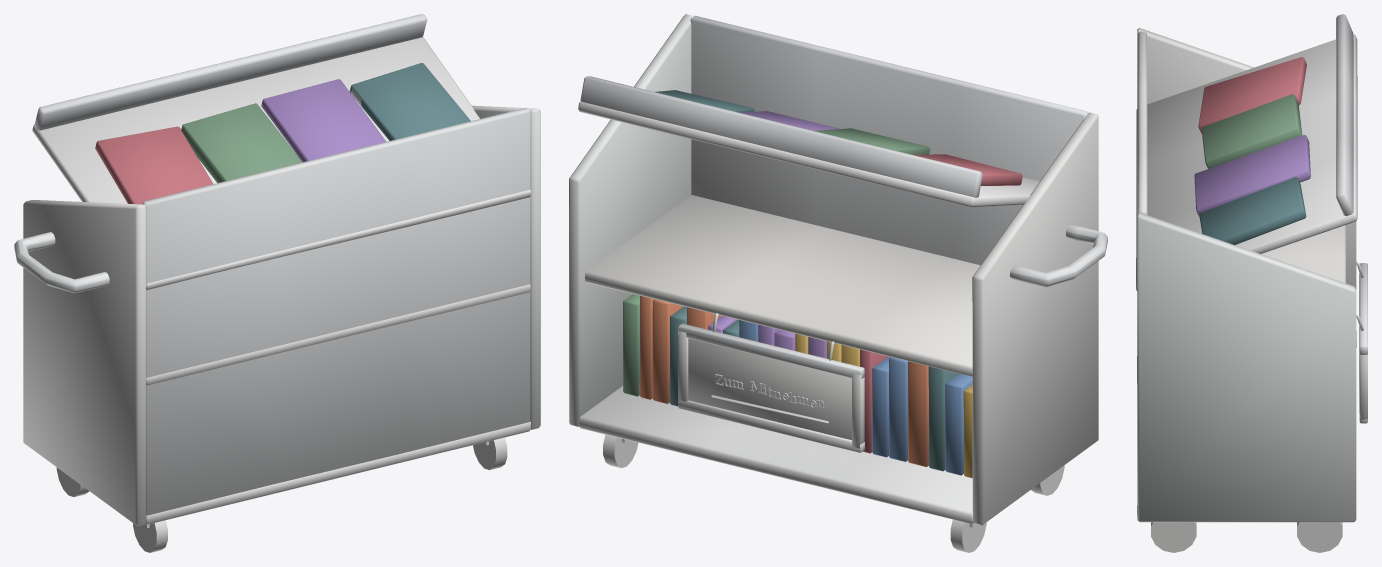
The model's file is deco_walk_books.glb.
3 views of the same model, side by side, from view 1: azimuth 30°, elevation 25°; view 2: azimuth 150°, elevation 25°; view 3: azimuth 270°, elevation 25° (orthographic). The views are drawn at different scales.
Visible parts, largest first — view 1: Lack Salbei Bücherwagen, Bücher bunt, Schmiedeeisen; view 2: Lack Salbei Bücherwagen, Bücher bunt, Tafel, Schmiedeeisen, Kreide; view 3: Lack Salbei Bücherwagen, Bücher bunt, Schmiedeeisen.
Boxes of the visible parts, <box> form: Lack Salbei Bücherwagen: <box>14,14,540,525</box>; Bücher bunt: <box>95,63,470,204</box>; Schmiedeeisen: <box>56,437,507,552</box>; Lack Salbei Bücherwagen: <box>569,14,1107,525</box>; Bücher bunt: <box>623,90,1022,478</box>; Tafel: <box>688,338,851,440</box>; Schmiedeeisen: <box>603,434,1064,552</box>; Kreide: <box>711,374,828,423</box>; Lack Salbei Bücherwagen: <box>1136,14,1367,522</box>; Bücher bunt: <box>1194,57,1310,244</box>; Schmiedeeisen: <box>1151,522,1342,552</box>.
Bounding box in the file's own units: 0.9623 × 0.7772 × 0.4444.
